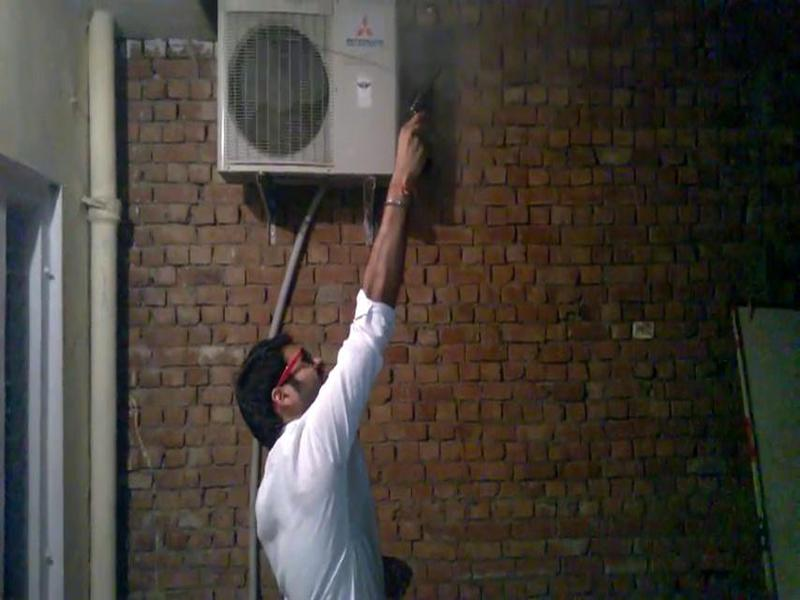Revolver: (383, 47, 455, 193)
